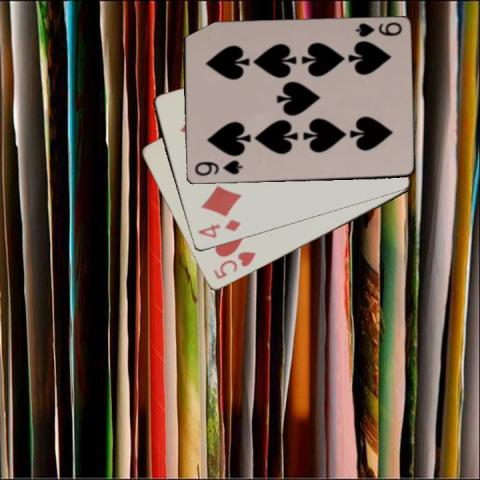4d: (194, 217, 242, 240)
5h: (210, 248, 257, 280)
9s: (191, 157, 244, 178), (352, 19, 403, 39)
